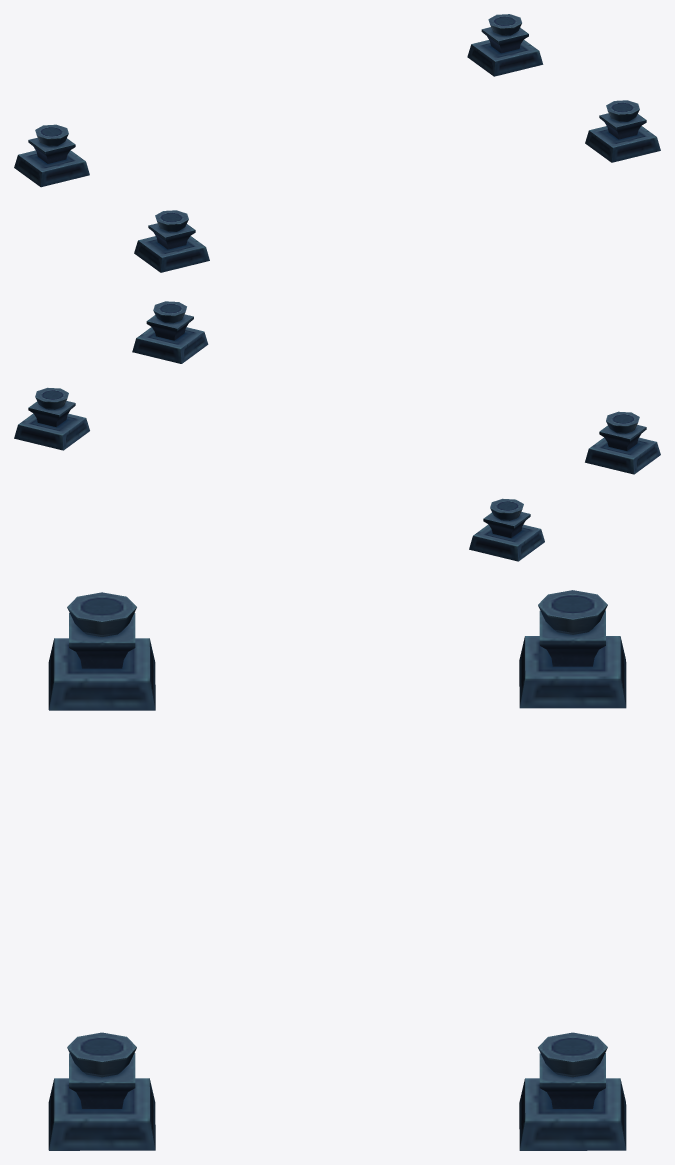
File: wujian07.fbx
3 views of the same model, one above another, from view 1: azimuth 30°, elevation 25°; view 2: azimuth 150°, elevation 25°; view 3: azimuth 270°, elevation 25° (orthographic). The views are drawn at different scales.
Visible parts, largest first — view 1: wujian07; view 2: wujian07; view 3: wujian07.
Boxes of the visible parts, <box> form: wujian07: <box>14,14,660,272</box>; wujian07: <box>14,301,660,561</box>; wujian07: <box>48,590,626,1150</box>.
Size of the model in its own units: 2790 by 211 by 1389.
1 material, 1 textured.
